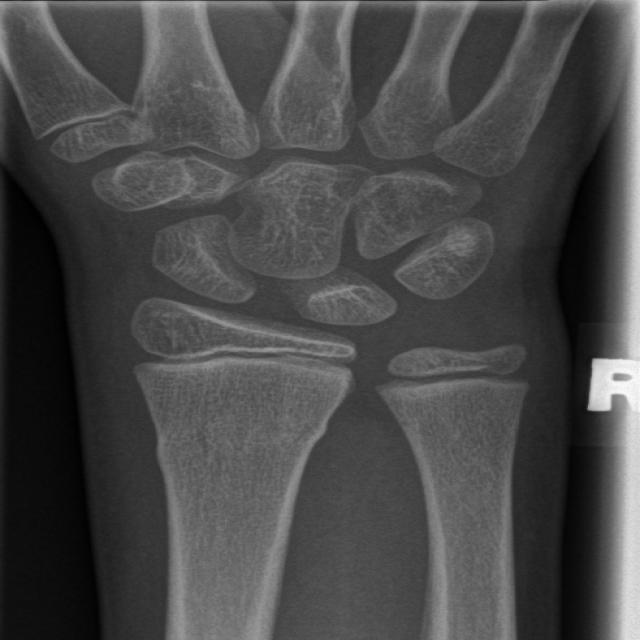radius fracture: (121, 382, 362, 528)
